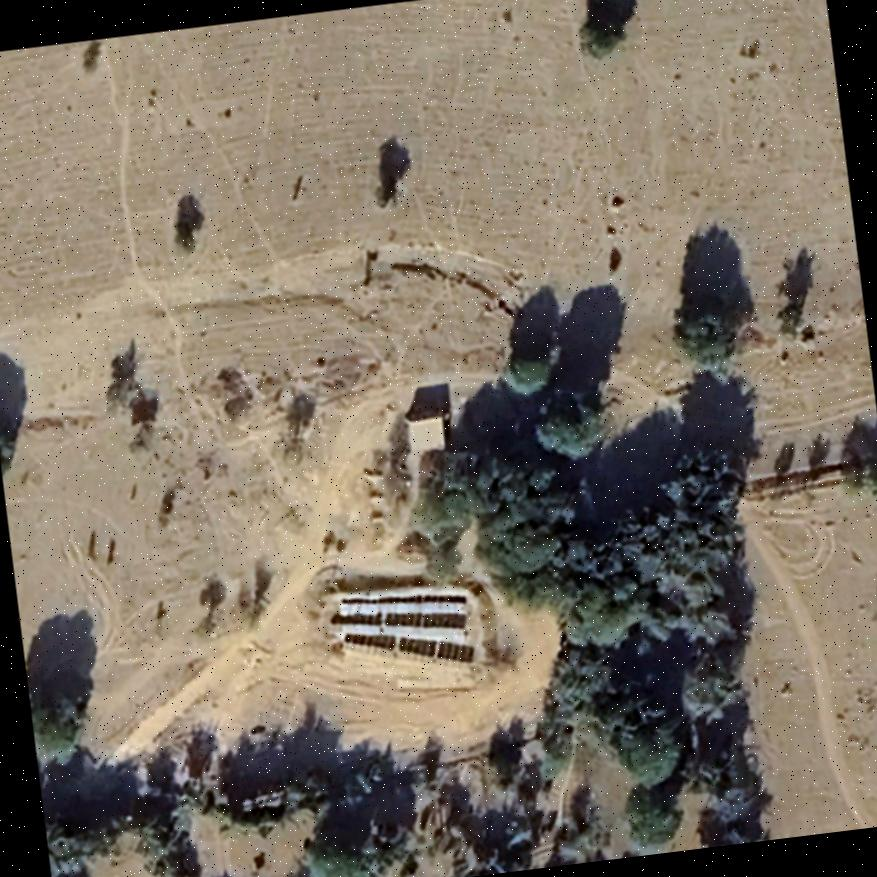Solarpanel: (329, 622, 469, 647), (334, 598, 468, 616)
